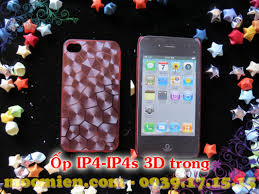iphone: (135, 33, 201, 159)
iphone4: (134, 33, 200, 159)
